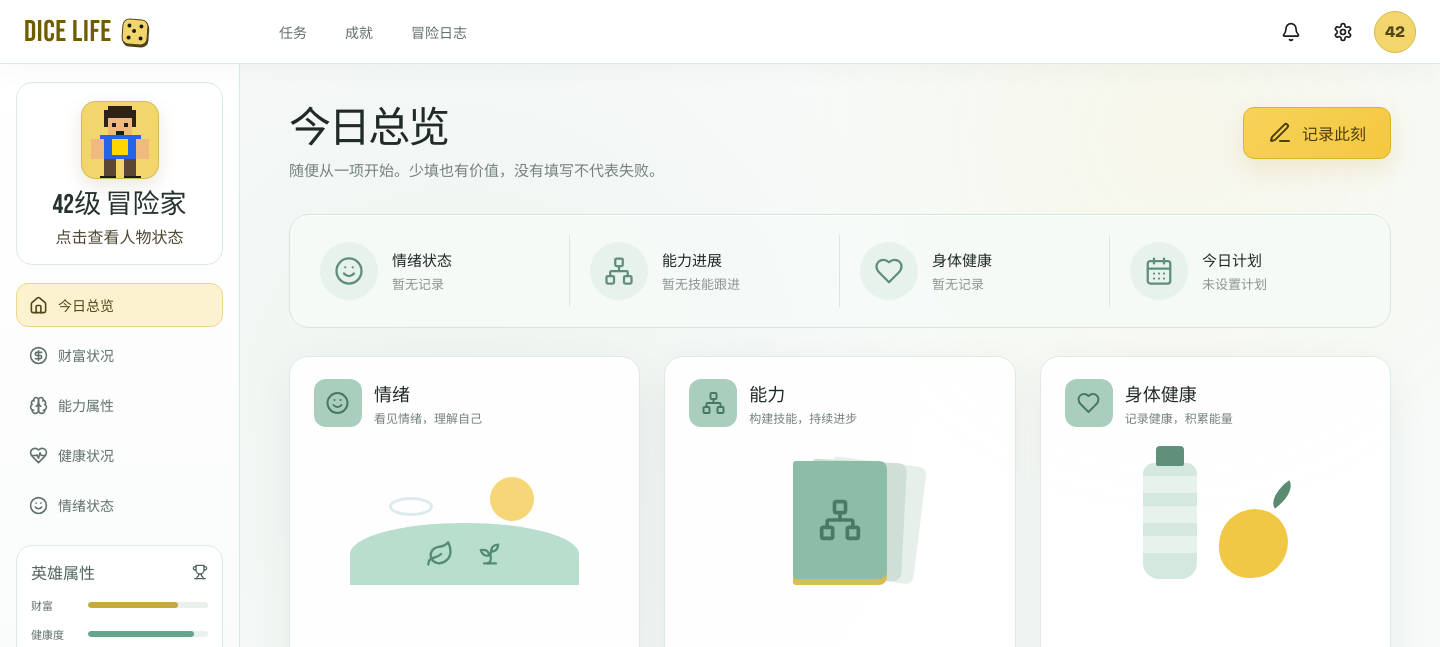
Test: Dice Life ability navigation › opens the real ability module from the sidebar and returns to finance
Click the button "能力属性" at (120, 405), box [16,383,223,427]
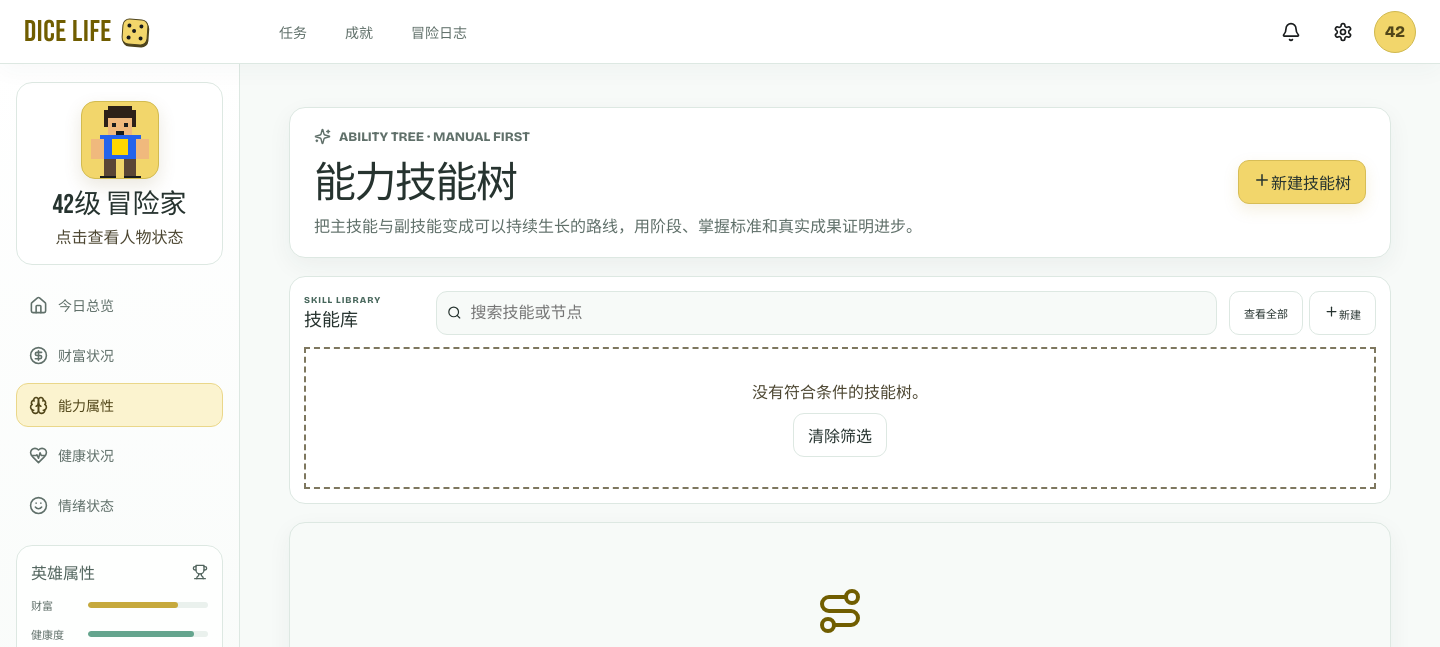
Now the heading "能力技能树" is shown, box [314,158,517,208]
Click the button "财富状况" at (120, 355), box [16,333,223,377]
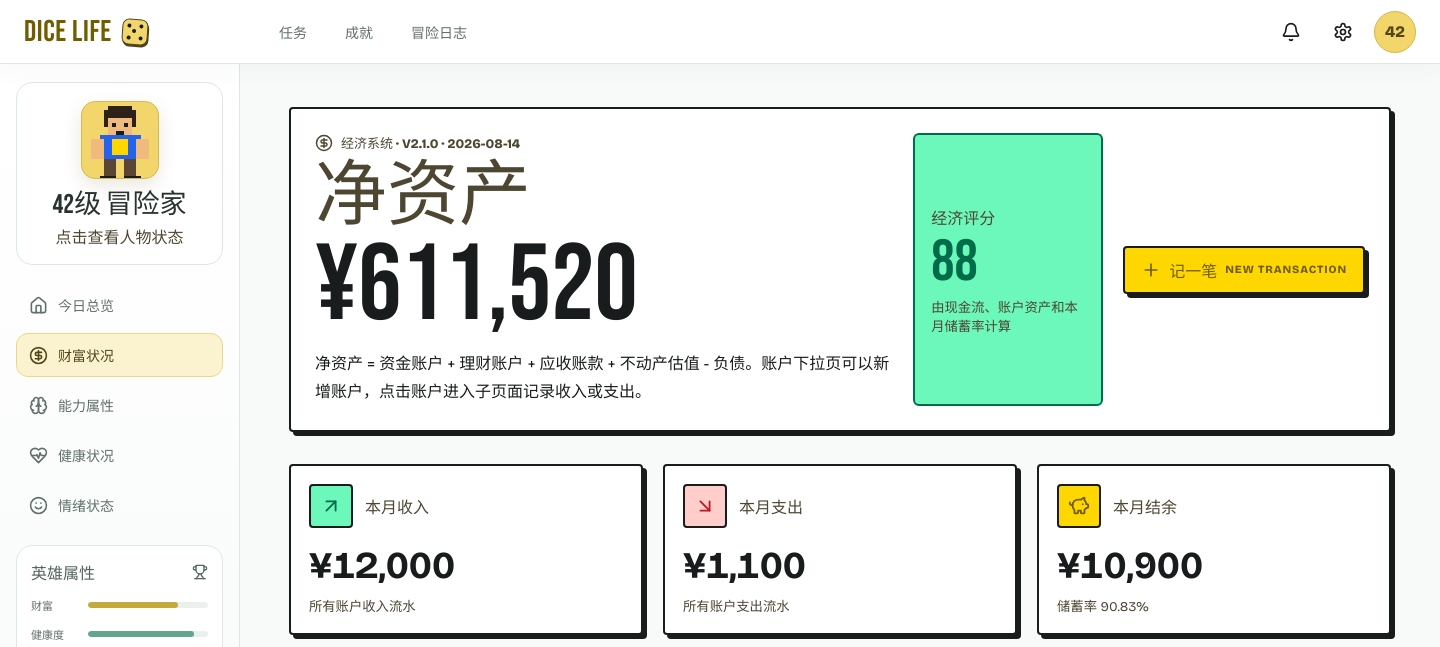
Now the heading "净资产" is shown, box [315,154,531,241]
